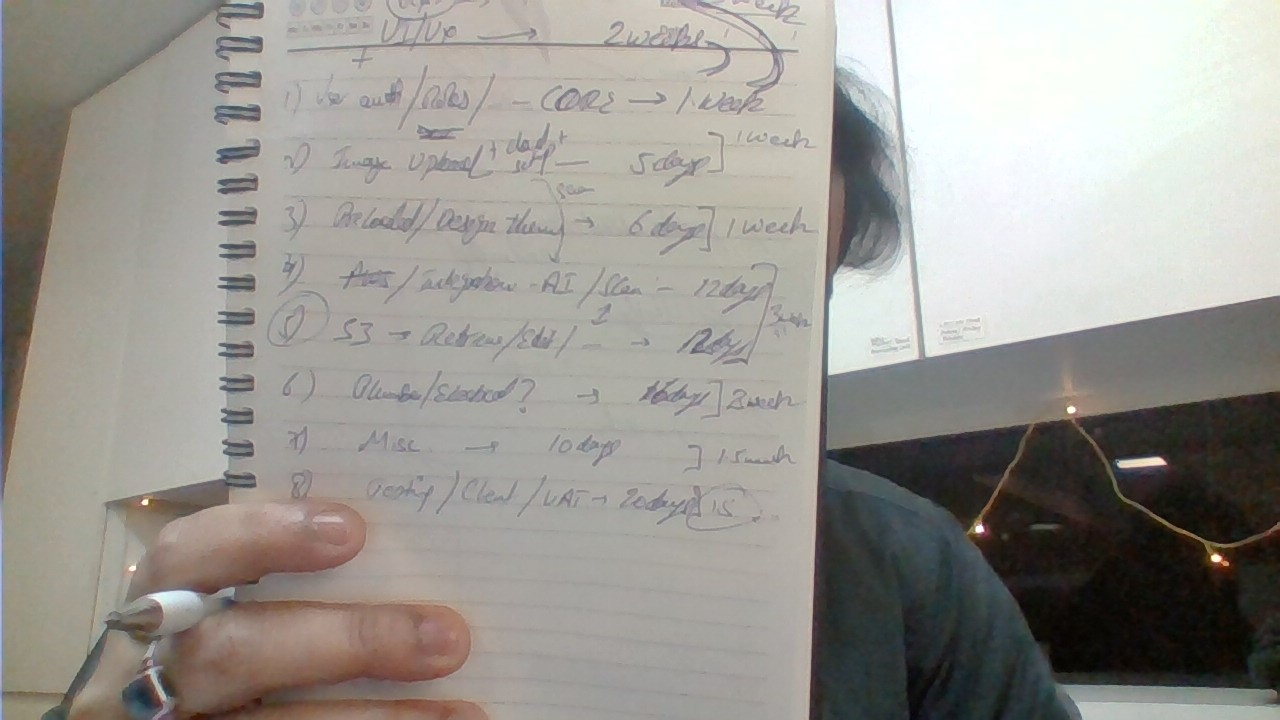partial: (210, 1, 835, 718)
